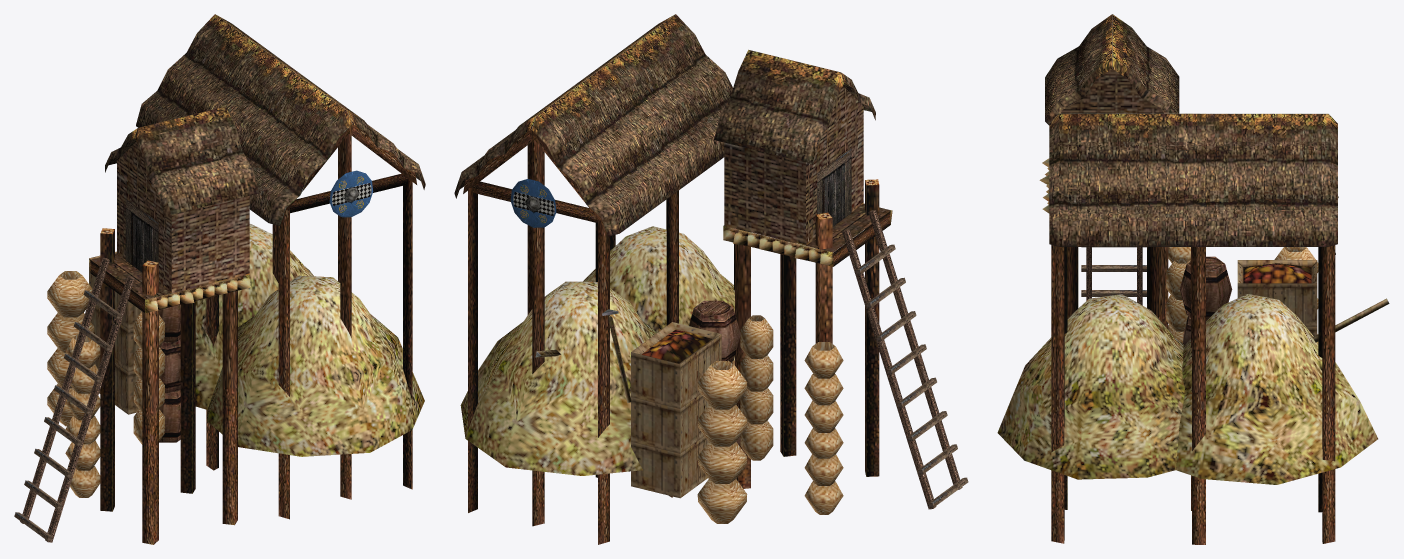
File: brit_farmstead.glb
The picture shows the model from 3 angles, left to right: view 1: azimuth 30°, elevation 25°; view 2: azimuth 150°, elevation 25°; view 3: azimuth 270°, elevation 25°; orthographic projection. The views are drawn at different scales.
Visible parts, largest first — view 1: brit_farmstead_part0, brit_farmstead_part1, brit_farmstead_part2; view 2: brit_farmstead_part0, brit_farmstead_part1, brit_farmstead_part2, brit_farmstead_part3; view 3: brit_farmstead_part0, brit_farmstead_part1.
Part boxes in pixels (left/top/right/bottom): brit_farmstead_part0: left=89, top=14, right=425, bottom=544; brit_farmstead_part1: left=14, top=199, right=424, bottom=542; brit_farmstead_part2: left=329, top=170, right=373, bottom=217; brit_farmstead_part0: left=454, top=14, right=892, bottom=544; brit_farmstead_part1: left=460, top=148, right=968, bottom=523; brit_farmstead_part2: left=510, top=179, right=556, bottom=227; brit_farmstead_part3: left=535, top=309, right=631, bottom=402; brit_farmstead_part0: left=1039, top=14, right=1337, bottom=544; brit_farmstead_part1: left=997, top=247, right=1377, bottom=484.
Size of the model in its own units: 3.2 by 3.15 by 2.76.
4 materials, 4 textured.
